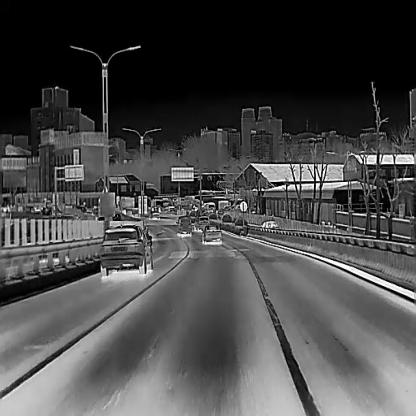car: (99, 222, 153, 276), (200, 223, 221, 243), (176, 215, 191, 233), (262, 219, 278, 231), (198, 214, 208, 229), (150, 210, 160, 218)
